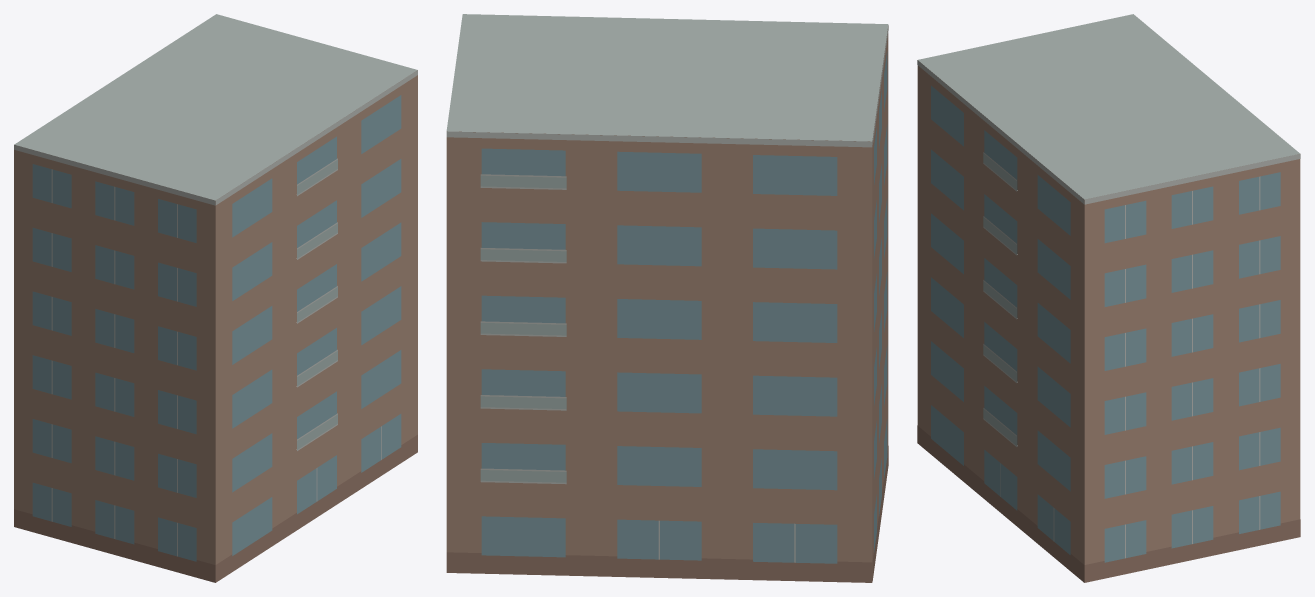
File: survey-upis-33008511.glb
The picture shows the model from 3 angles, left to right: view 1: azimuth 30°, elevation 25°; view 2: azimuth 150°, elevation 25°; view 3: azimuth 270°, elevation 25°; orthographic projection. The views are drawn at different scales.
Parts seen in each view (by area): view 1: survey-upis-33008511.tmp; view 2: survey-upis-33008511.tmp; view 3: survey-upis-33008511.tmp.
Part boxes in pixels (x1=…): survey-upis-33008511.tmp: x1=14, y1=14, x2=417, y2=582; survey-upis-33008511.tmp: x1=446, y1=14, x2=888, y2=582; survey-upis-33008511.tmp: x1=917, y1=14, x2=1300, y2=582.
Size of the model in its own units: 19.01 by 18.3 by 16.58.
